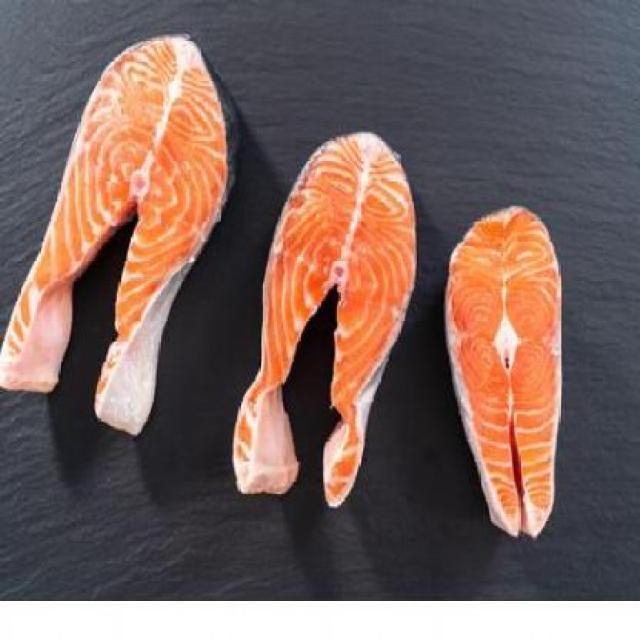salmon: (1, 18, 232, 484), (232, 92, 423, 510), (431, 180, 578, 550)
